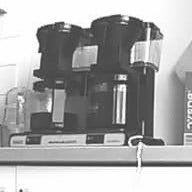not empty coffee: (84, 69, 143, 134)
